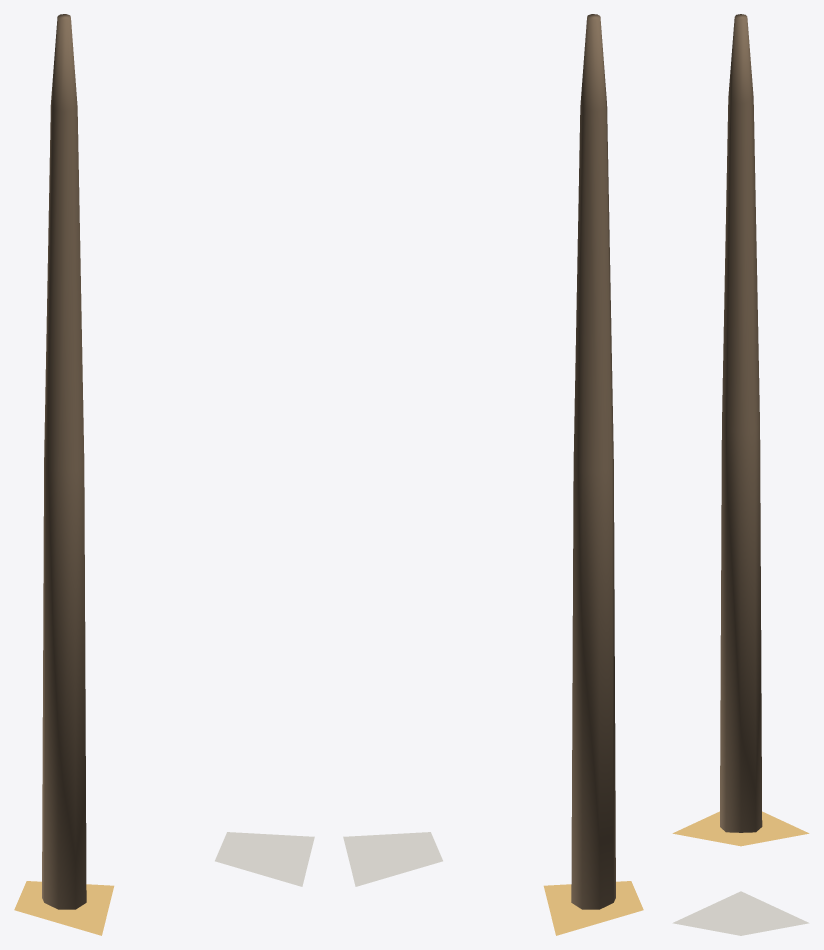
The model's file is loopdown-kite-masts.glb.
The picture shows the model from 3 angles, left to right: view 1: azimuth 30°, elevation 25°; view 2: azimuth 150°, elevation 25°; view 3: azimuth 270°, elevation 25°; orthographic projection. The views are drawn at different scales.
Parts seen in each view (by area): view 1: MastPost, KiteArchive, KiteLesson; view 2: MastPost, KiteArchive, KiteLesson; view 3: MastPost, KiteArchive, KiteLesson.
Part boxes in pixels (x1,y1,x2,y2): MastPost: (42,14,86,909); KiteArchive: (215,832,314,886); KiteLesson: (14,881,114,935); MastPost: (571,14,615,909); KiteArchive: (343,832,442,886); KiteLesson: (543,881,643,935); MastPost: (720,14,762,832); KiteArchive: (672,891,809,935); KiteLesson: (672,811,809,846).
Size of the model in its own units: 0.3 by 0.85 by 0.13.
